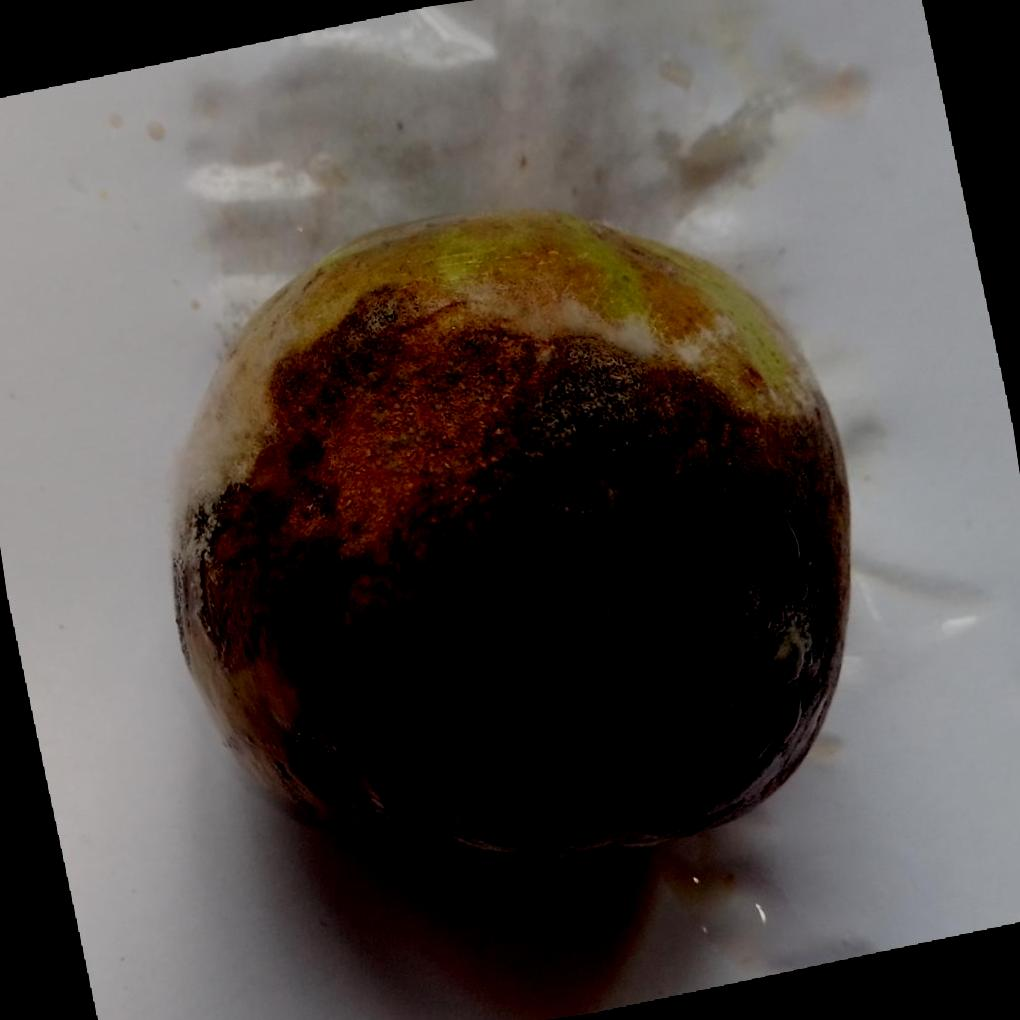FreshOrange: (167, 211, 855, 882)
